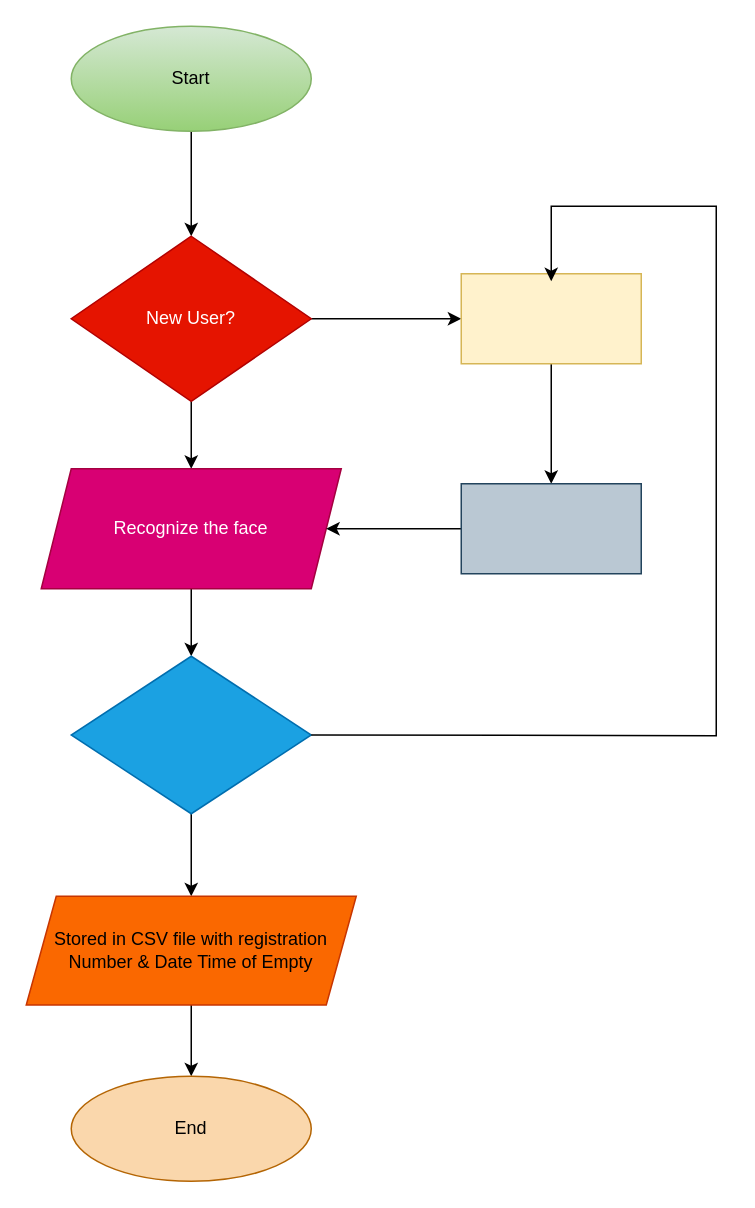
The diagram is 755 pixels wide and 1208 high, and some of its shapes have lost their labels. The shapes that lost their labels are listed below. From the top down, each one's centre as x and y in pixels, then its label:
At (550,318): "Give your Photography".
At (550,528): "Store the face data in folder on your name".
At (190,734): "Face Recognize".
